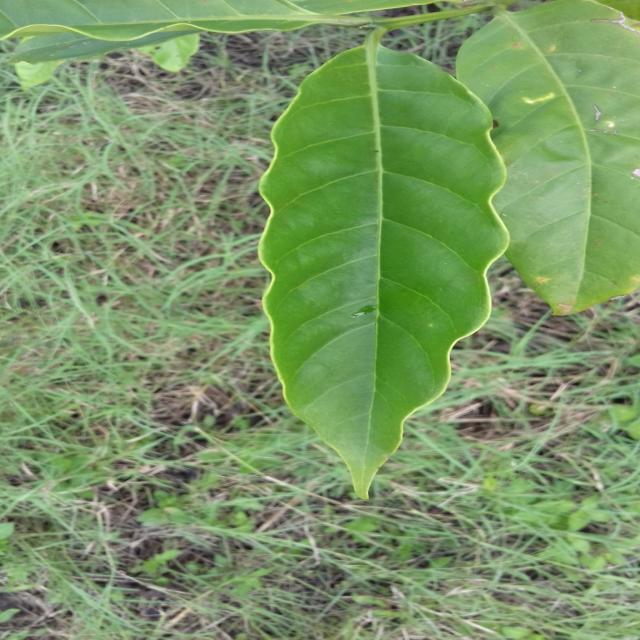Sanas: (257, 32, 512, 502)
